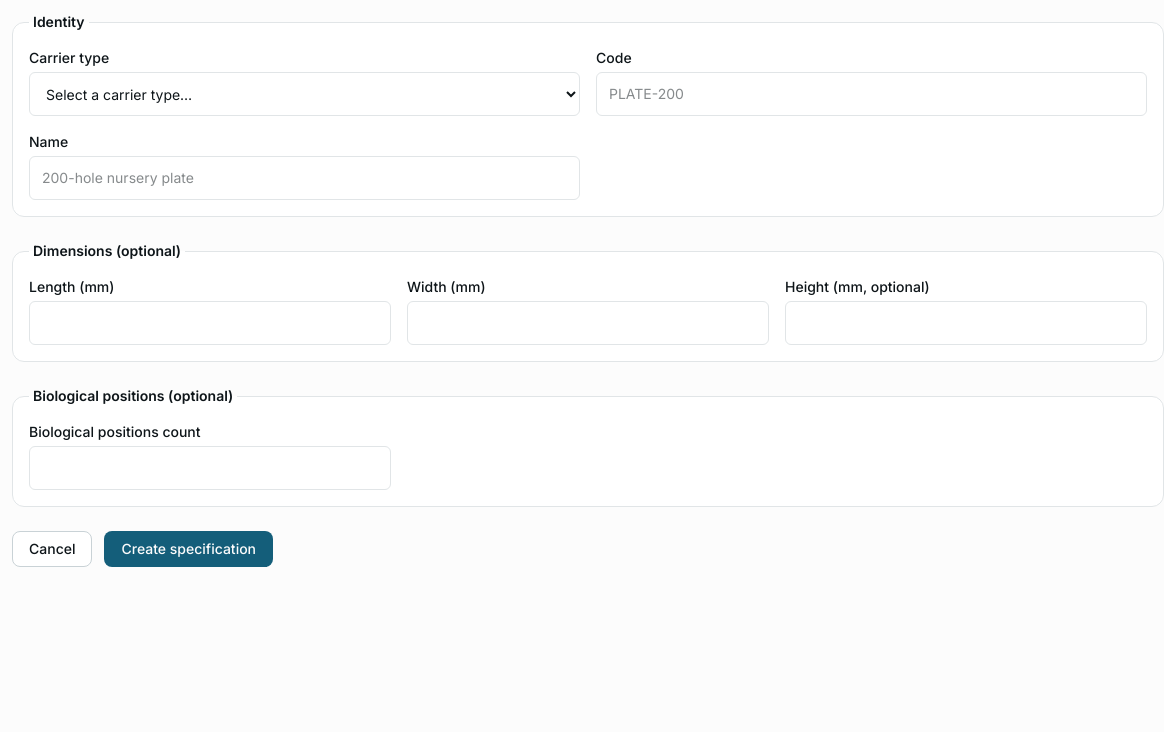
Test: CarrierSpecificationForm -- optional numeric fields › still rejects an actually-invalid entered numeric value (0 fails the positive check)
Select "Grow Cube" in the dropdown labelled "Carrier type" at (304, 94), box 29,72 -> 580,116
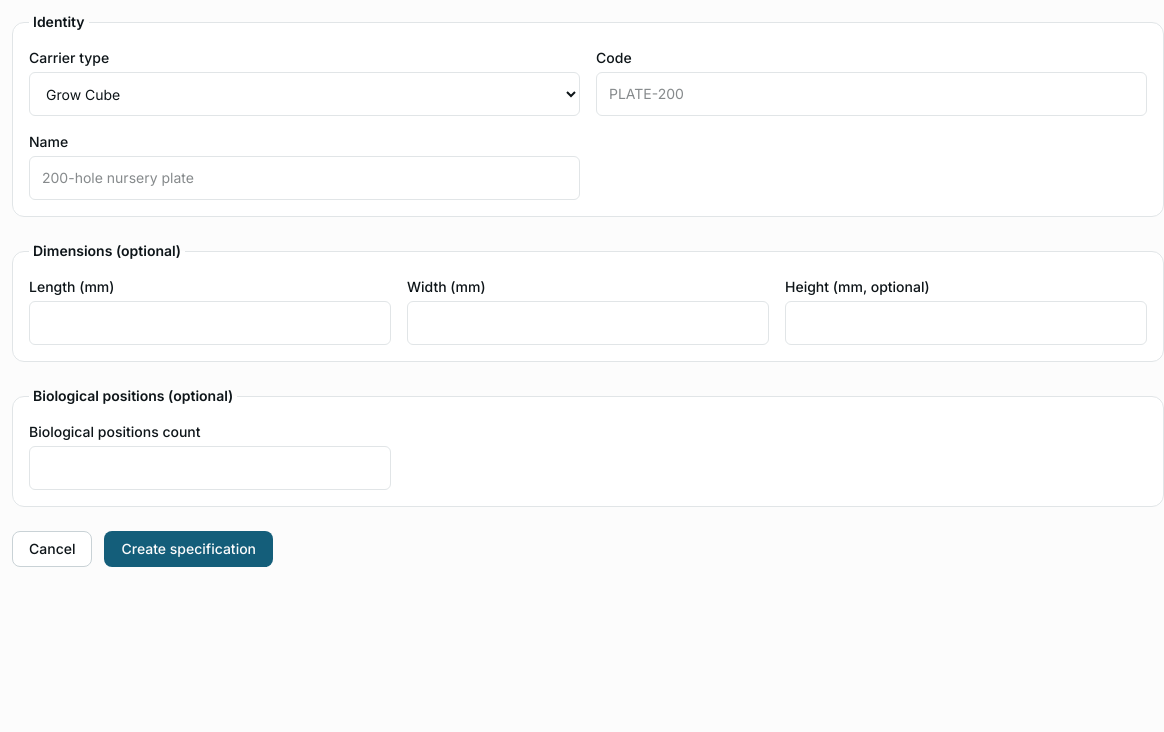
Type "GC1" into the field labelled "Code" at (872, 94), box 596,72 -> 1147,116
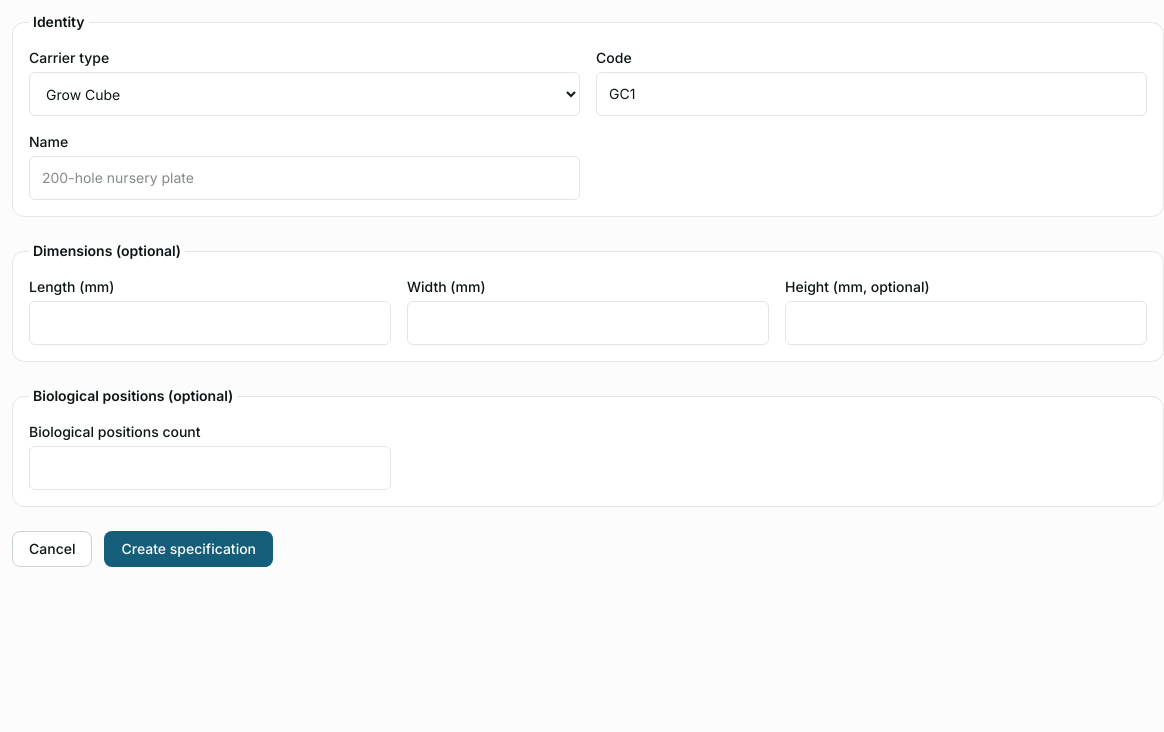
Type "Grow Cube 1" into the field labelled "Name" at (304, 178), box 29,156 -> 580,200
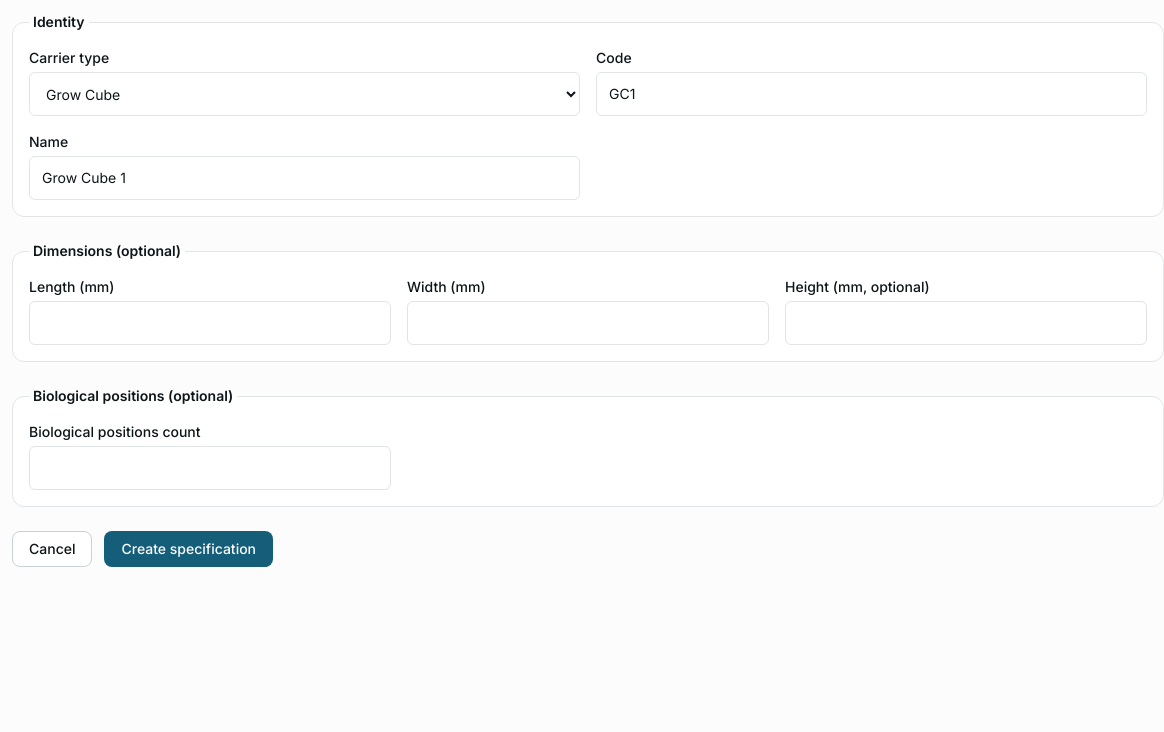
Type "0" into the number field labelled "Height (mm, optional)" at (966, 323), box 785,301 -> 1147,345
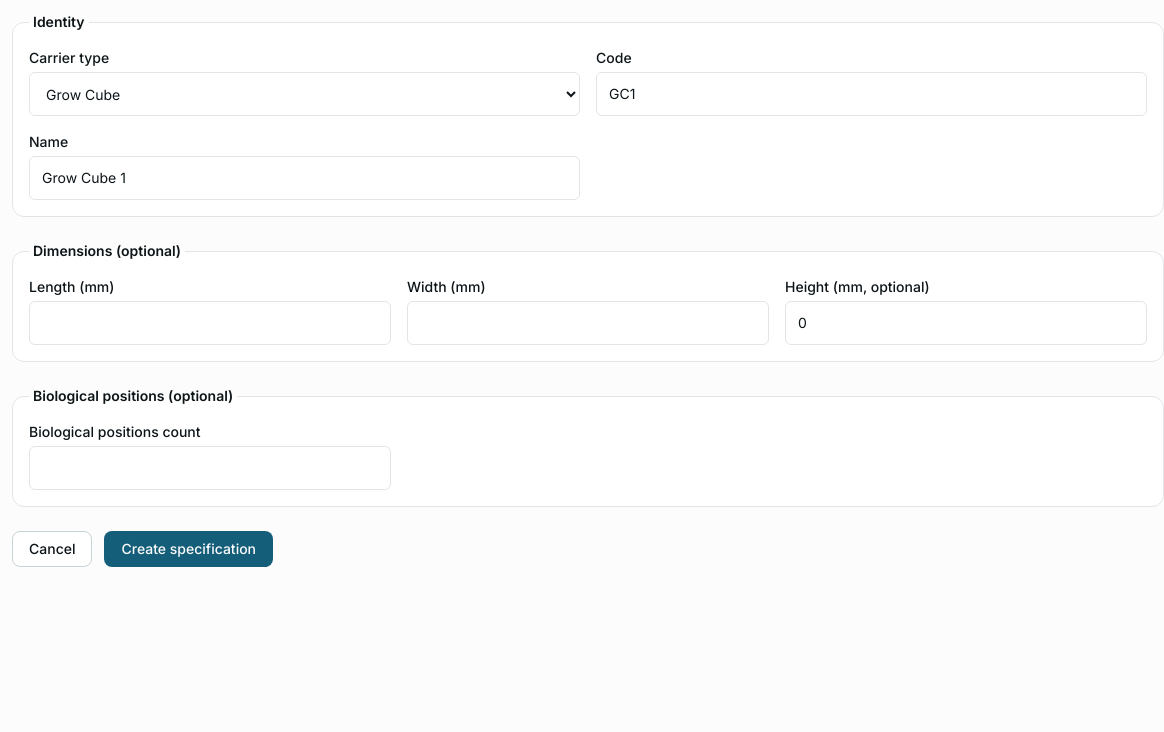
Submit the form
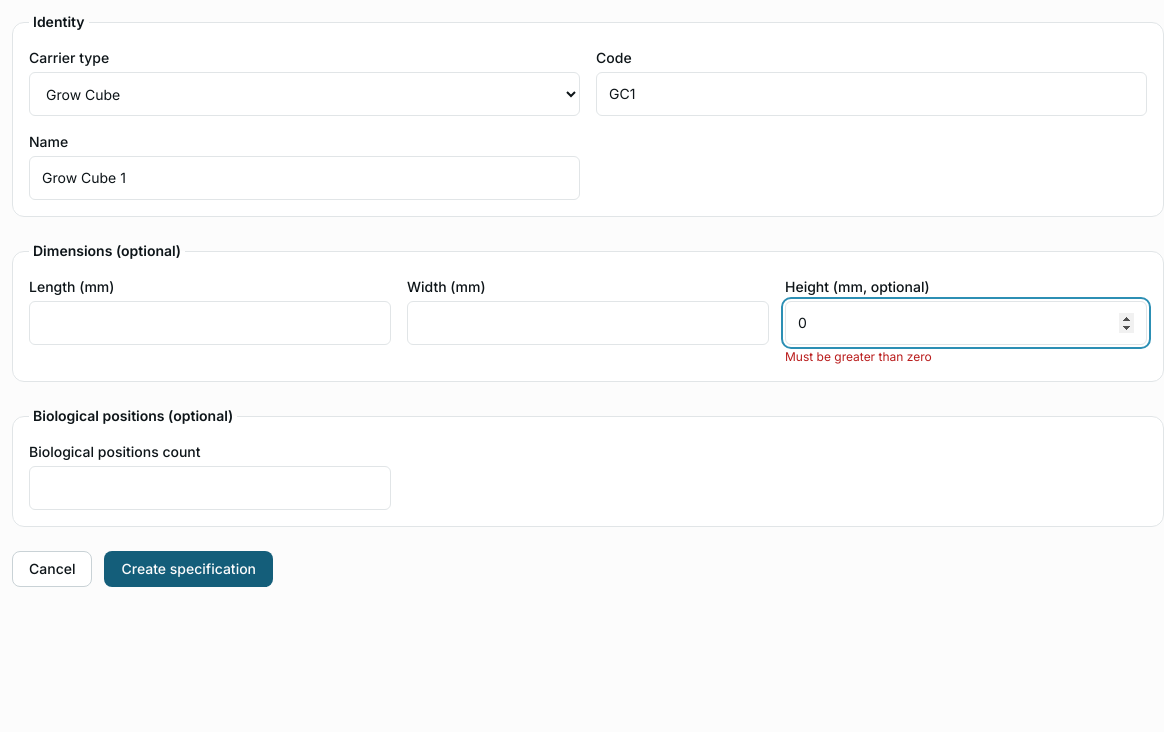
Check: the text "Must be greater than zero" is shown, box 785,349 -> 932,364
